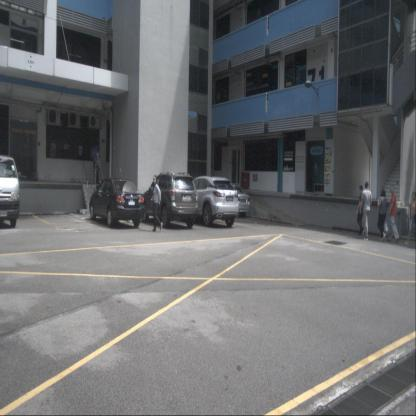human-pedestrian-adult: (386, 186, 400, 243), (359, 181, 372, 241), (151, 174, 163, 232), (404, 192, 416, 246), (377, 189, 388, 241), (356, 185, 365, 236), (91, 144, 100, 184)
vehicle-car: (140, 171, 199, 228), (179, 176, 239, 227), (89, 177, 144, 228), (0, 154, 22, 228), (212, 183, 250, 217)
